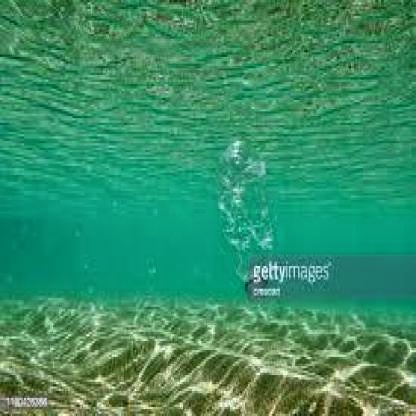pbottle: (212, 134, 281, 302)
